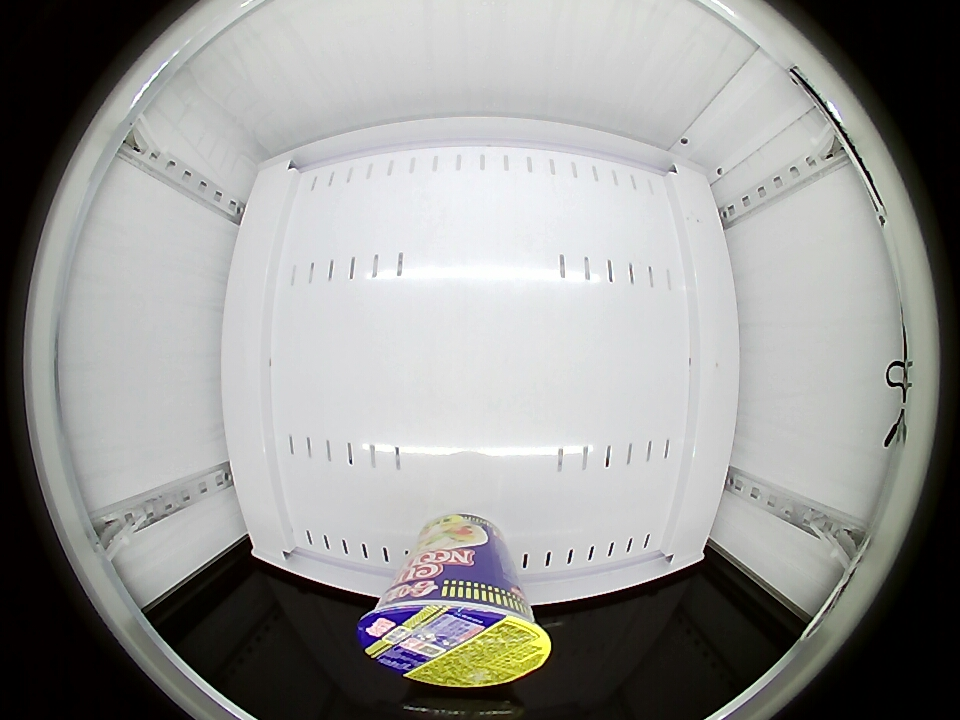heweidao: (357, 570, 550, 688)
